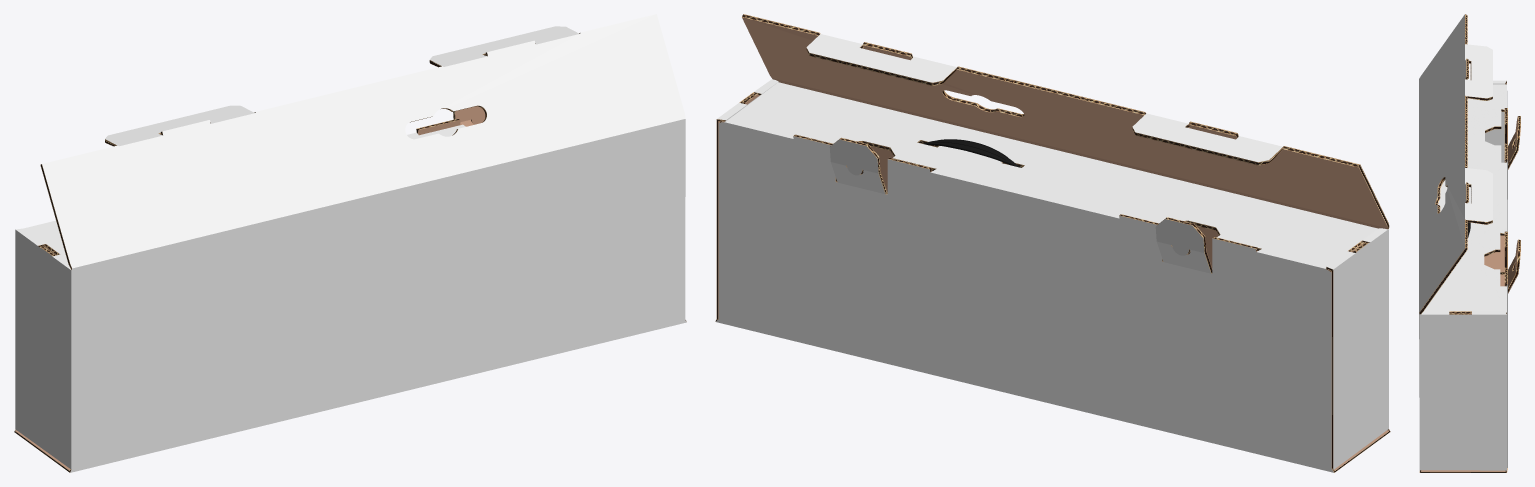
The model's file is JAMONERO10.glb.
3 views of the same model, side by side, from view 1: azimuth 30°, elevation 25°; view 2: azimuth 150°, elevation 25°; view 3: azimuth 270°, elevation 25° (orthographic). The views are drawn at different scales.
Parts seen in each view (by area): view 1: Curve.007; view 2: Curve.007; view 3: Curve.007.
Boxes of the visible parts, x1=… form: Curve.007: x1=14, y1=14, x2=686, y2=472; Curve.007: x1=715, y1=14, x2=1390, y2=472; Curve.007: x1=1419, y1=14, x2=1520, y2=472.
Size of the model in its own units: 0.7248 by 0.3254 by 0.1329.
Materials: 4 (1 with a texture image).
